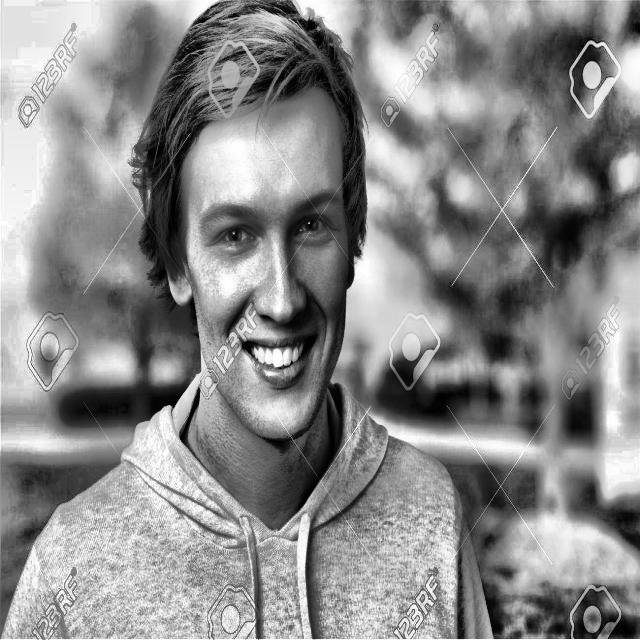happy: (117, 5, 397, 448)
